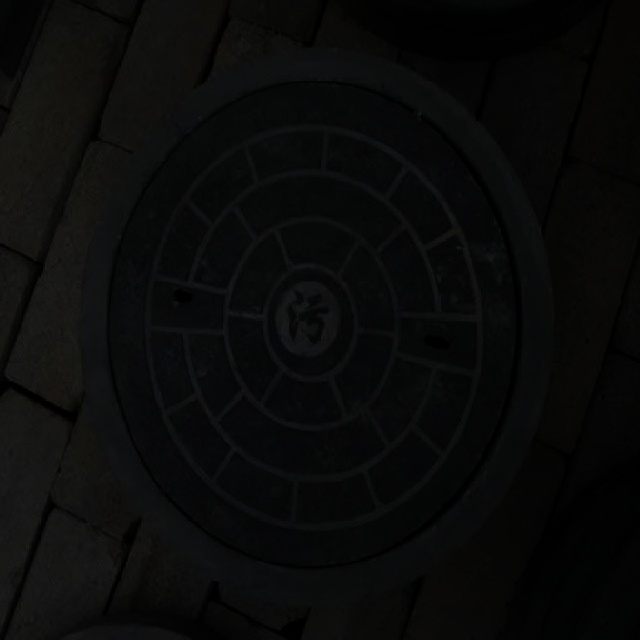Sewer Cover: (64, 34, 578, 589)
